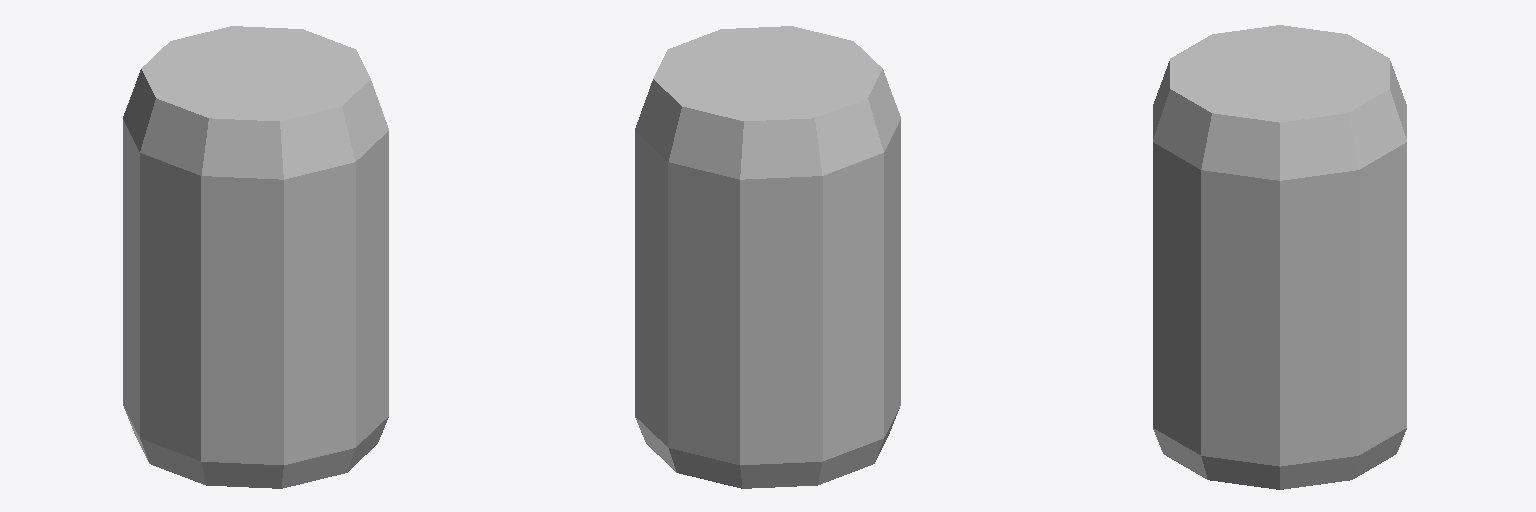
File: mountaindew.obj
The picture shows the model from 3 angles: view 1: azimuth 30°, elevation 25°; view 2: azimuth 150°, elevation 25°; view 3: azimuth 270°, elevation 25°; orthographic projection.
Parts seen in each view (by area): view 1: pCylinder1; view 2: pCylinder1; view 3: pCylinder1.
Boxes of the visible parts, <box> form: pCylinder1: <box>123,26,388,488</box>; pCylinder1: <box>635,26,900,488</box>; pCylinder1: <box>1153,25,1406,489</box>.
Bounding box in the file's own units: 2 × 3 × 1.9.